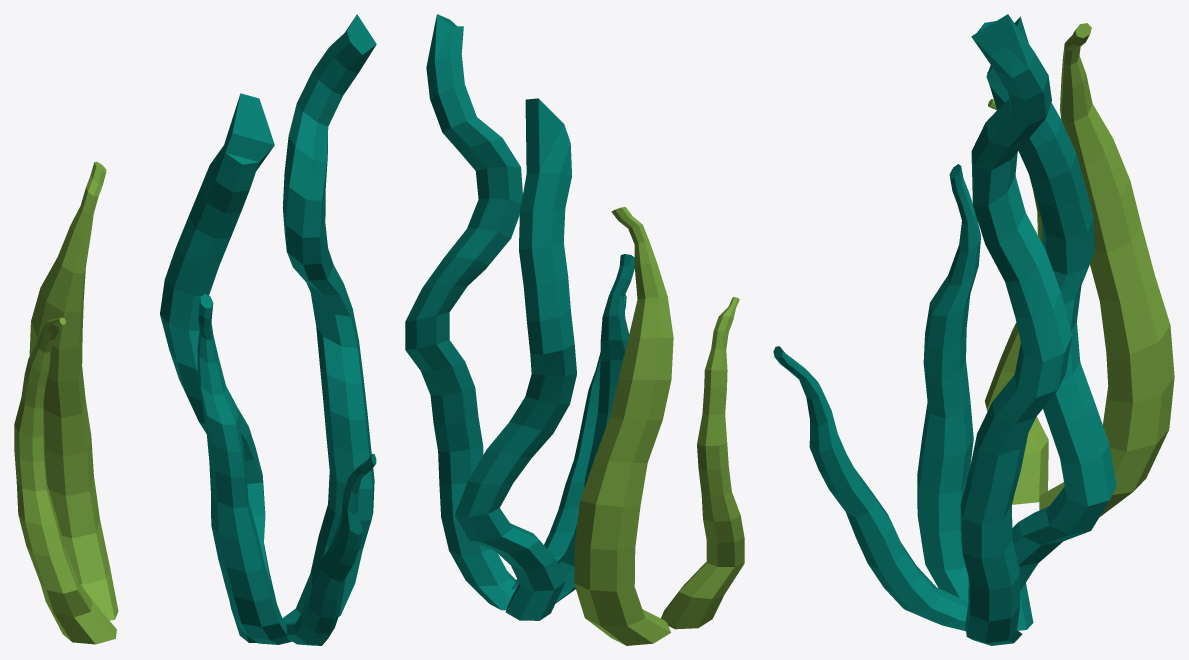
The picture shows the model from 3 angles, left to right: view 1: azimuth 30°, elevation 25°; view 2: azimuth 150°, elevation 25°; view 3: azimuth 270°, elevation 25°; orthographic projection. The views are drawn at different scales.
Visible parts, largest first — view 1: node_MeshObject-1365324608-PolyPaper11; view 2: node_MeshObject-1365324608-PolyPaper11; view 3: node_MeshObject-1365324608-PolyPaper11.
Boxes of the visible parts, <box> form: node_MeshObject-1365324608-PolyPaper11: <box>14,14,376,645</box>; node_MeshObject-1365324608-PolyPaper11: <box>405,14,744,645</box>; node_MeshObject-1365324608-PolyPaper11: <box>773,14,1174,645</box>.
Bounding box in the file's own units: 0.483 × 0.8166 × 0.4482.
